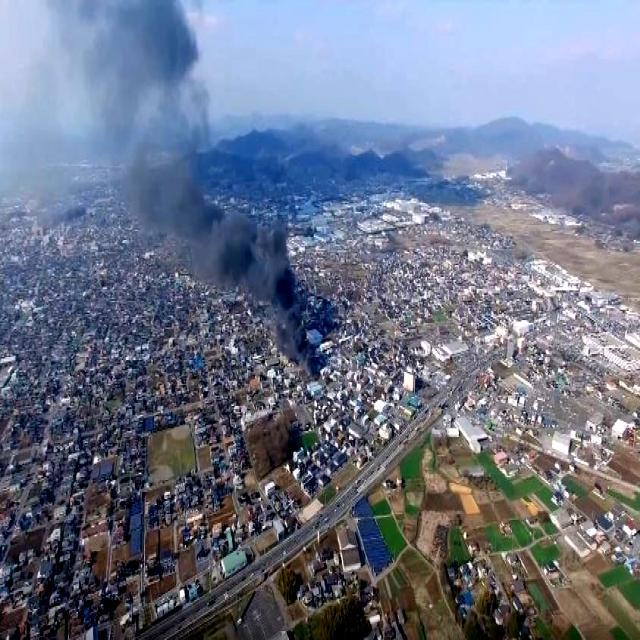Smoke: (84, 17, 234, 276), (163, 178, 304, 340)
